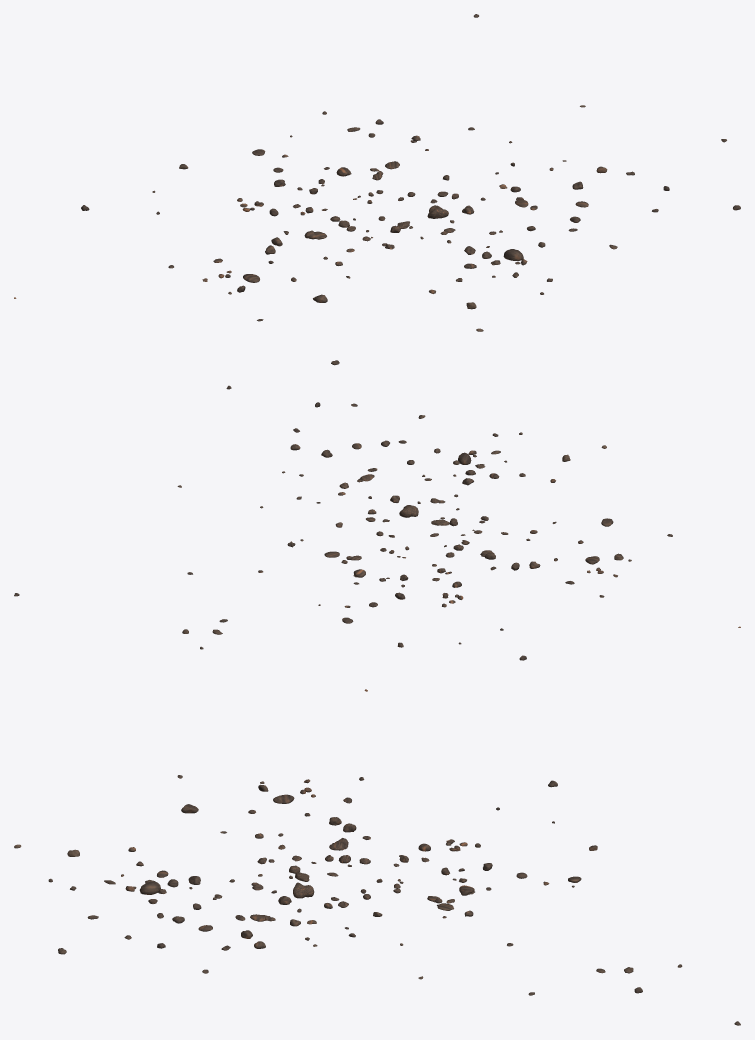
File: rock_field_2.dae
3 views of the same model, one above another, from view 1: azimuth 30°, elevation 25°; view 2: azimuth 150°, elevation 25°; view 3: azimuth 270°, elevation 25° (orthographic). The views are drawn at different scales.
Parts seen in each view (by area): view 1: rock_field_2; view 2: rock_field_2; view 3: rock_field_2.
Part boxes in pixels (bbox=[...]): rock_field_2: bbox=[14, 14, 740, 331]; rock_field_2: bbox=[14, 360, 740, 660]; rock_field_2: bbox=[14, 689, 740, 1025].
Size of the model in its own units: 26.57 by 23.68 by 3.65.
1 material, 1 textured.
